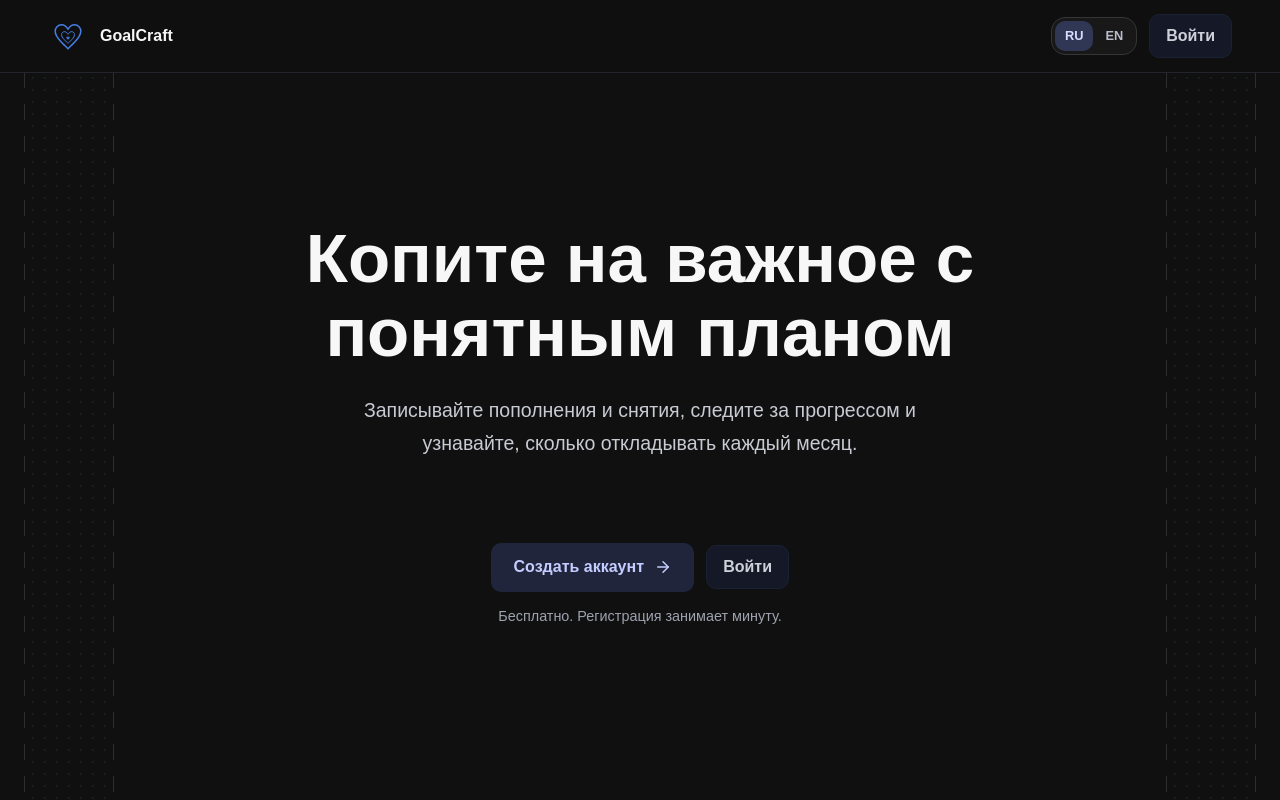
WelcomePage › shows English copy after switching language
Click the button "EN".
click(1114, 36)  # box [1095,21,1133,51]
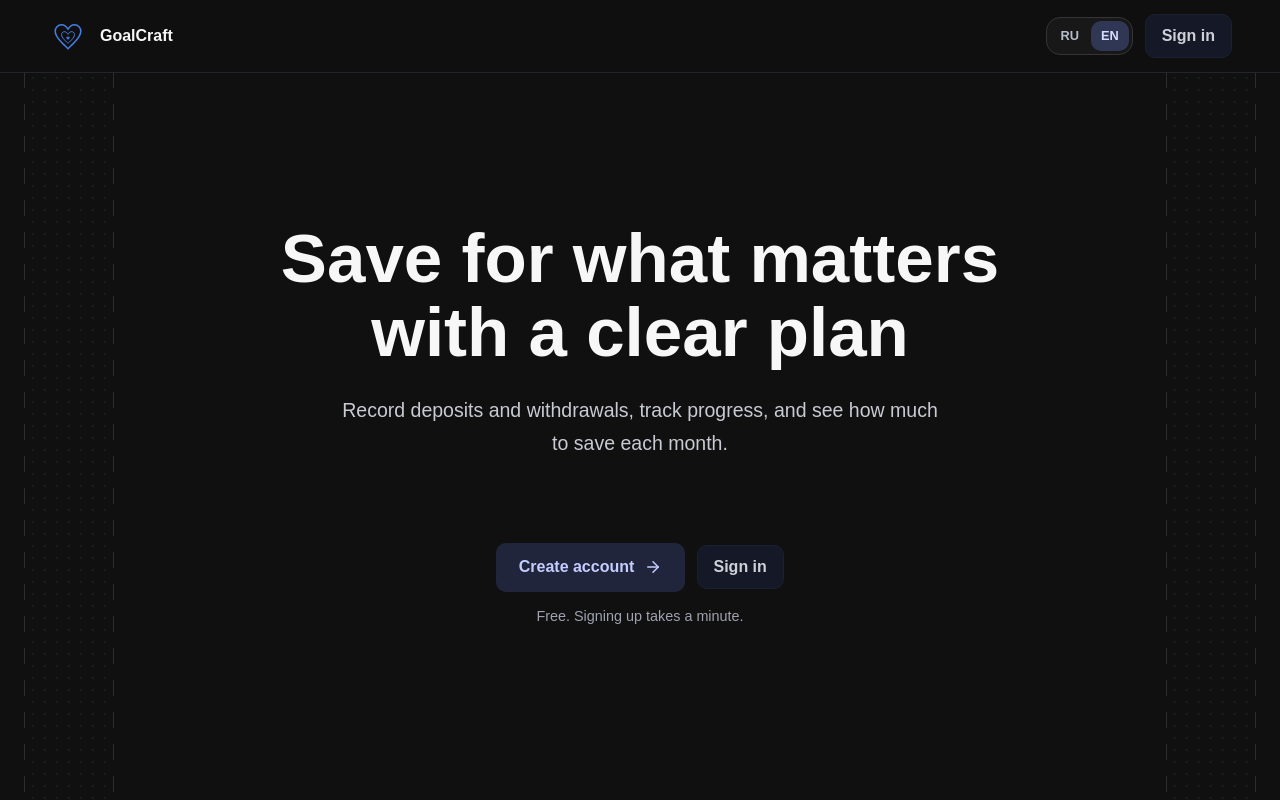
Expected: the heading "Save for what matters with a clear plan" is shown, [281,220,999,372]
